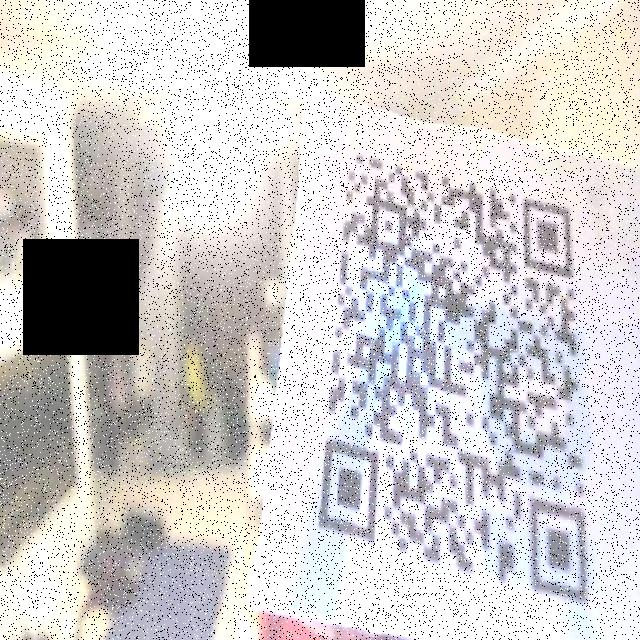QR_CODE: (301, 128, 609, 618)
